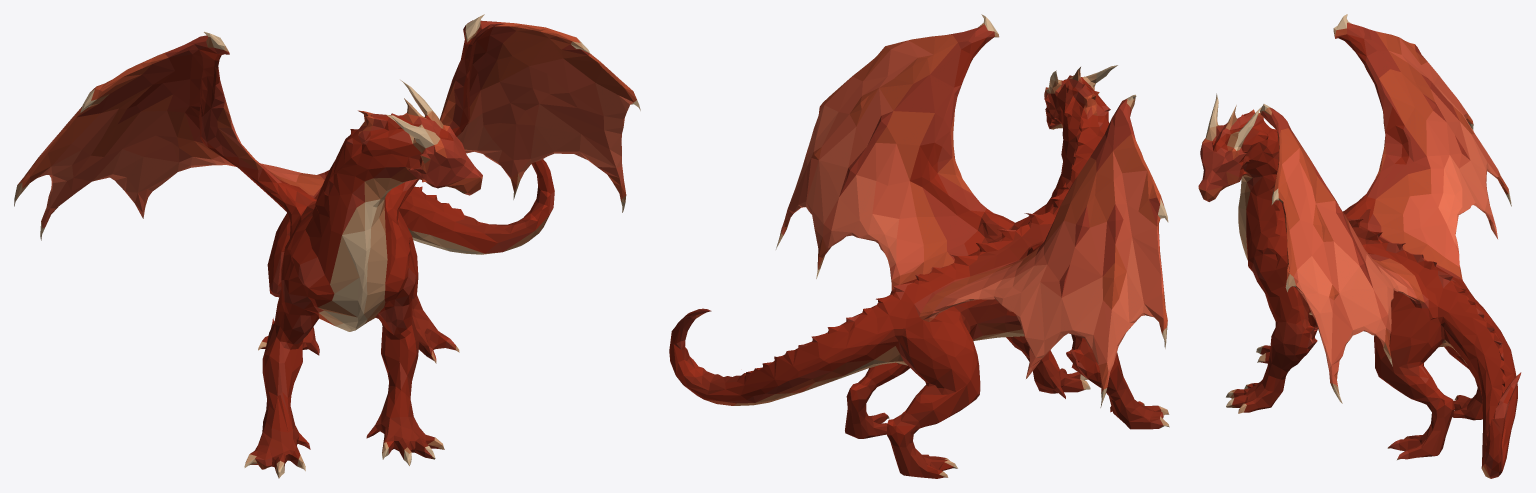
The model's file is preview.glb.
3 renders of one model, left to right at view 1: azimuth 30°, elevation 25°; view 2: azimuth 150°, elevation 25°; view 3: azimuth 270°, elevation 25°, orthographic. The views are drawn at different scales.
Visible parts, largest first — view 1: low-poly-dragon; view 2: low-poly-dragon; view 3: low-poly-dragon.
Boxes of the visible parts, x1=… form: low-poly-dragon: x1=14, y1=14, x2=640, y2=478; low-poly-dragon: x1=669, y1=14, x2=1169, y2=478; low-poly-dragon: x1=1198, y1=14, x2=1521, y2=478.
Size of the model in its own units: 5.05 by 3.62 by 3.17.
Materials: 1 (1 with a texture image).
